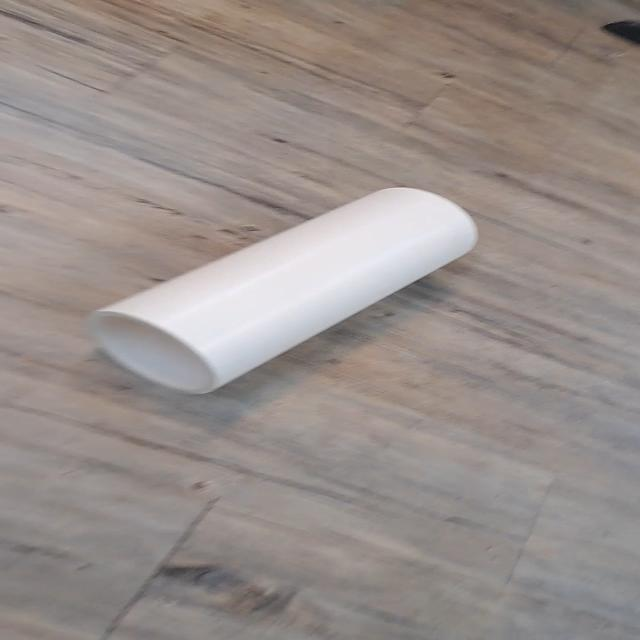CORAL: (85, 179, 485, 402)
